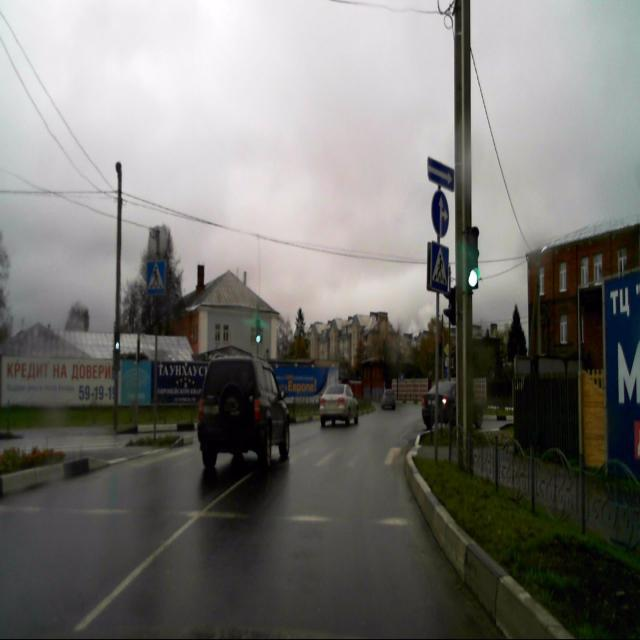road sign: (427, 156, 454, 192), (430, 242, 448, 295), (146, 260, 166, 295)
